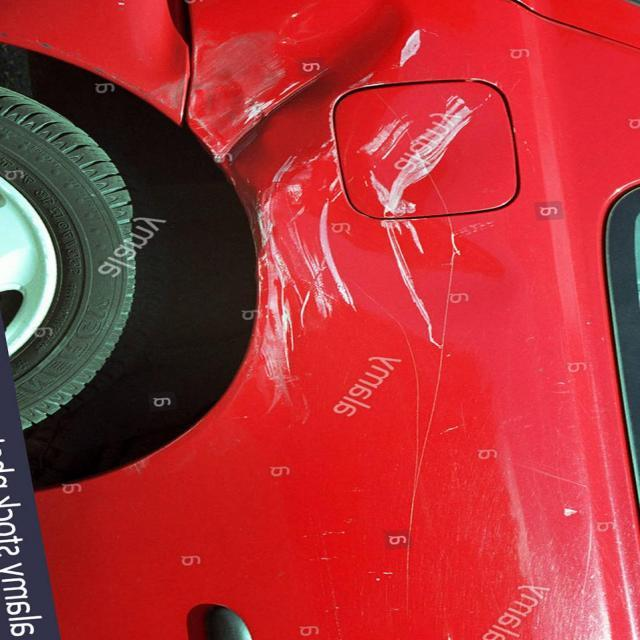scratch: (198, 12, 480, 418)
